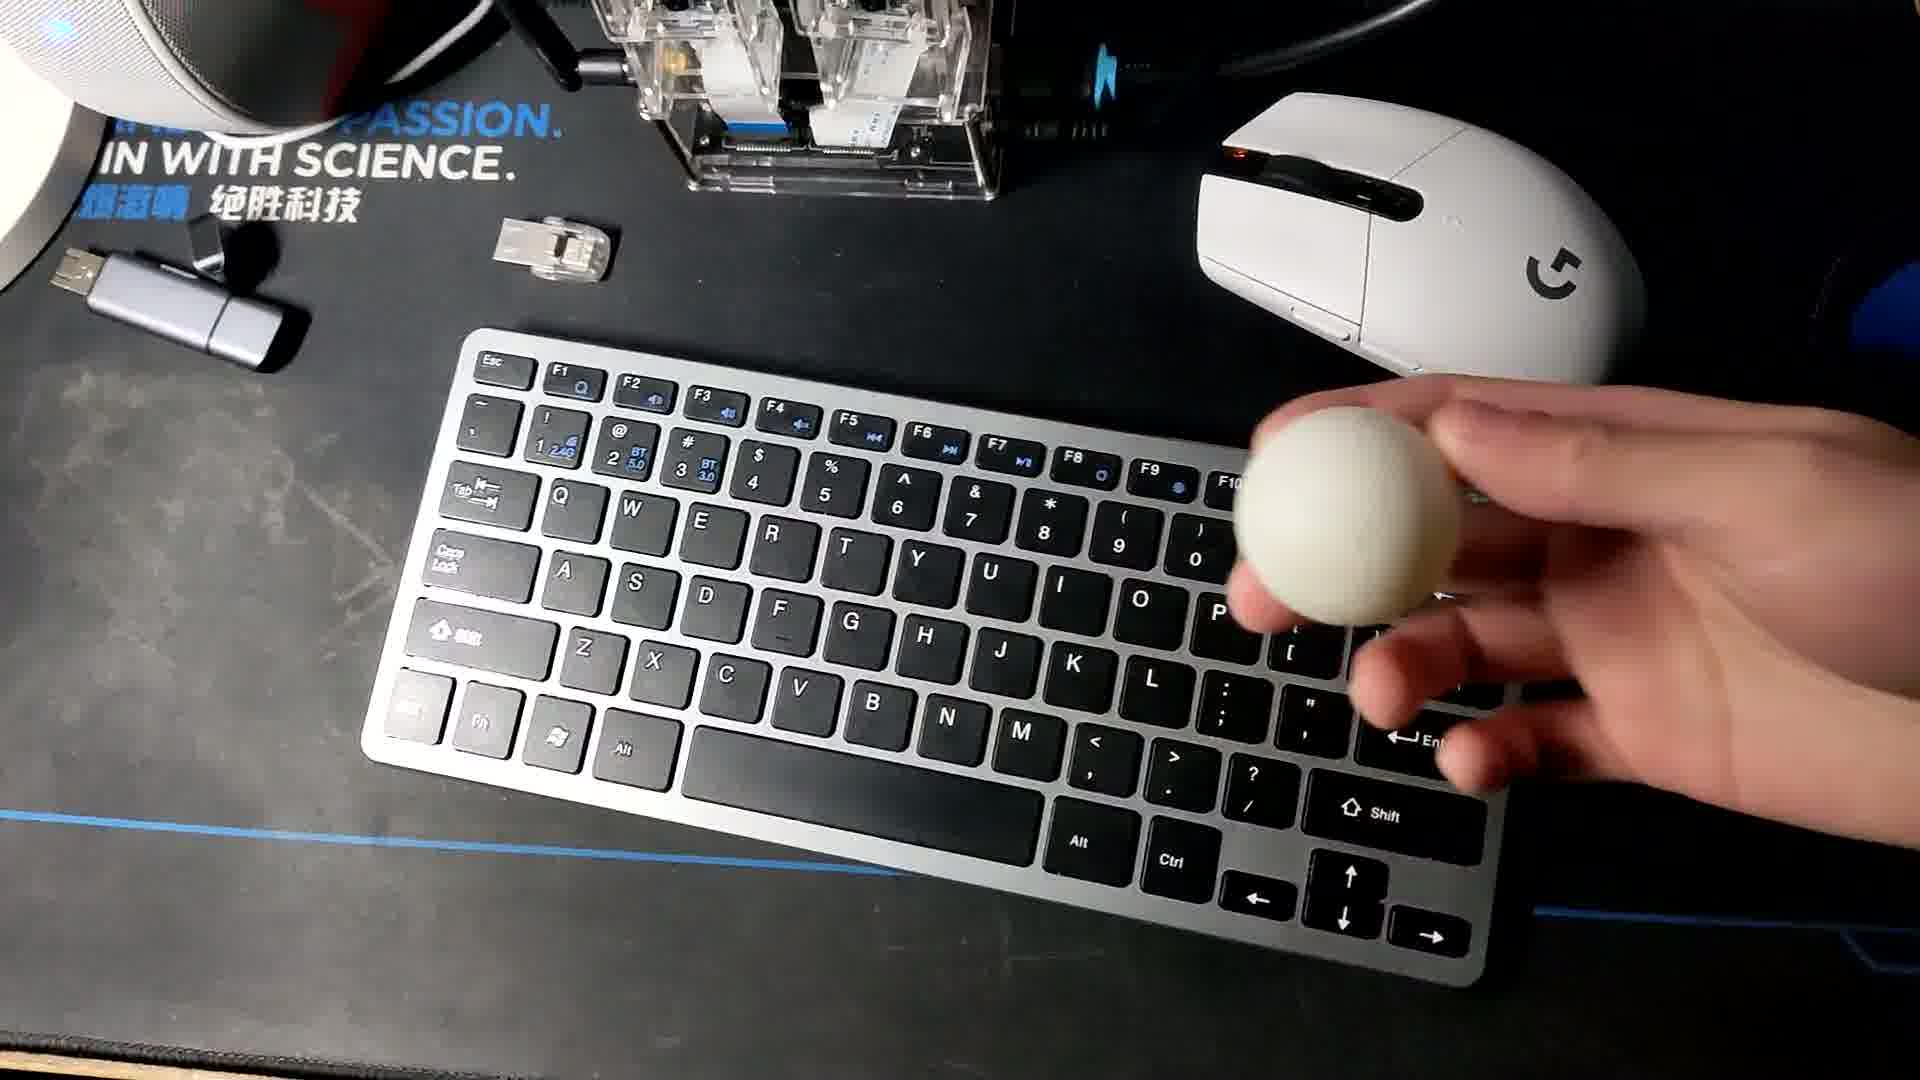Ball: (1232, 407, 1455, 629)
